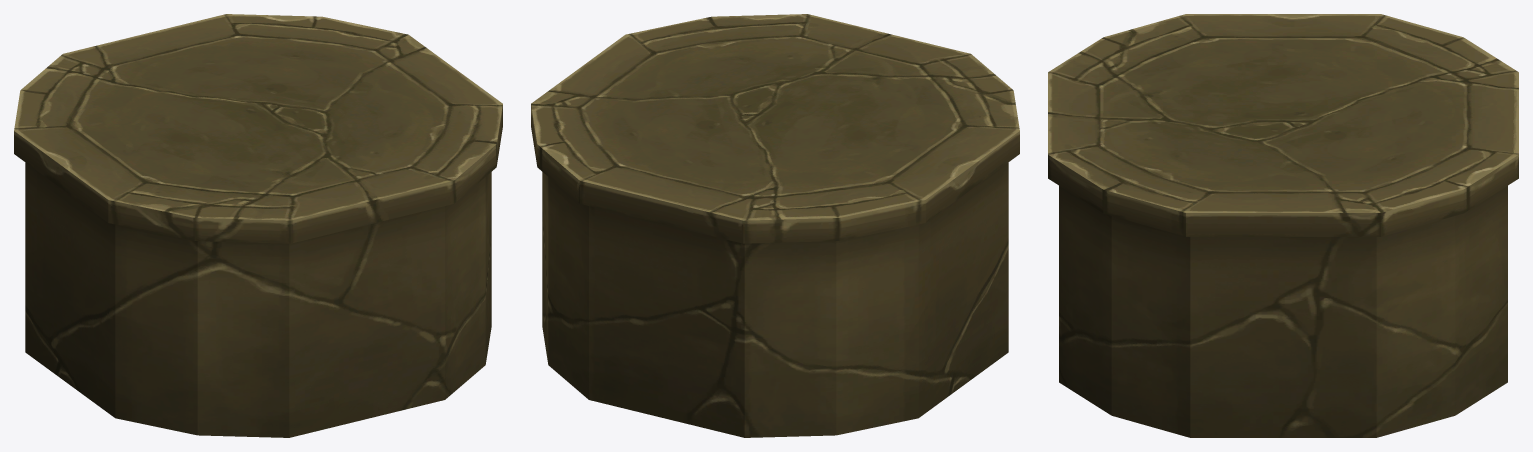
Rendered from temple_base_01.fbx.
3 renders of one model, left to right at view 1: azimuth 30°, elevation 25°; view 2: azimuth 150°, elevation 25°; view 3: azimuth 270°, elevation 25°, orthographic. The views are drawn at different scales.
Visible parts, largest first — view 1: obj1.007; view 2: obj1.007; view 3: obj1.007.
Part boxes in pixels (<box>): obj1.007: <box>14,14,502,437</box>; obj1.007: <box>531,14,1019,437</box>; obj1.007: <box>1048,14,1518,437</box>.
Size of the model in its own units: 7.39 by 3.98 by 7.39.
